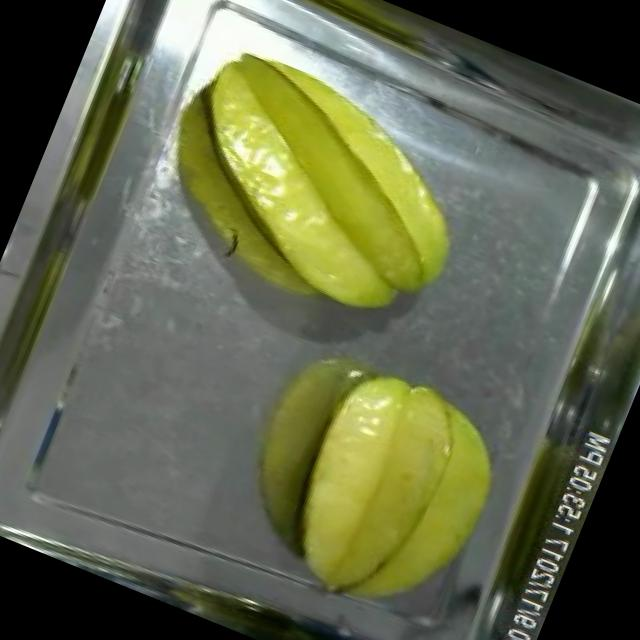fruit: (135, 29, 504, 350), (257, 341, 535, 640)
